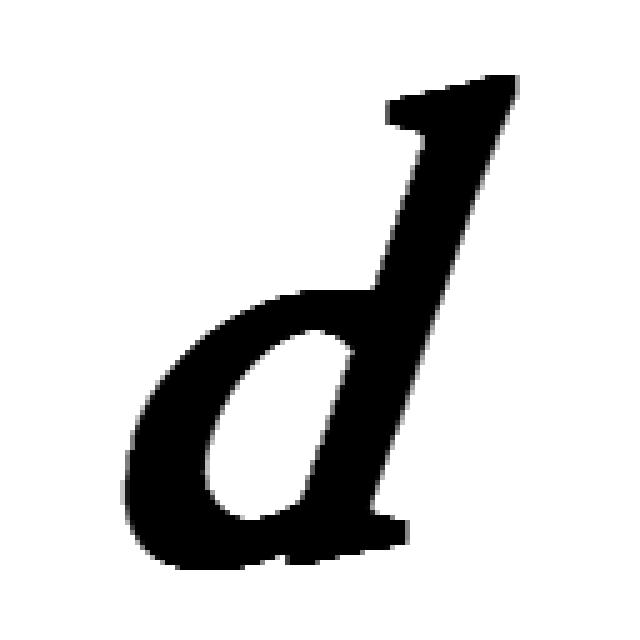D: (115, 65, 525, 575)
